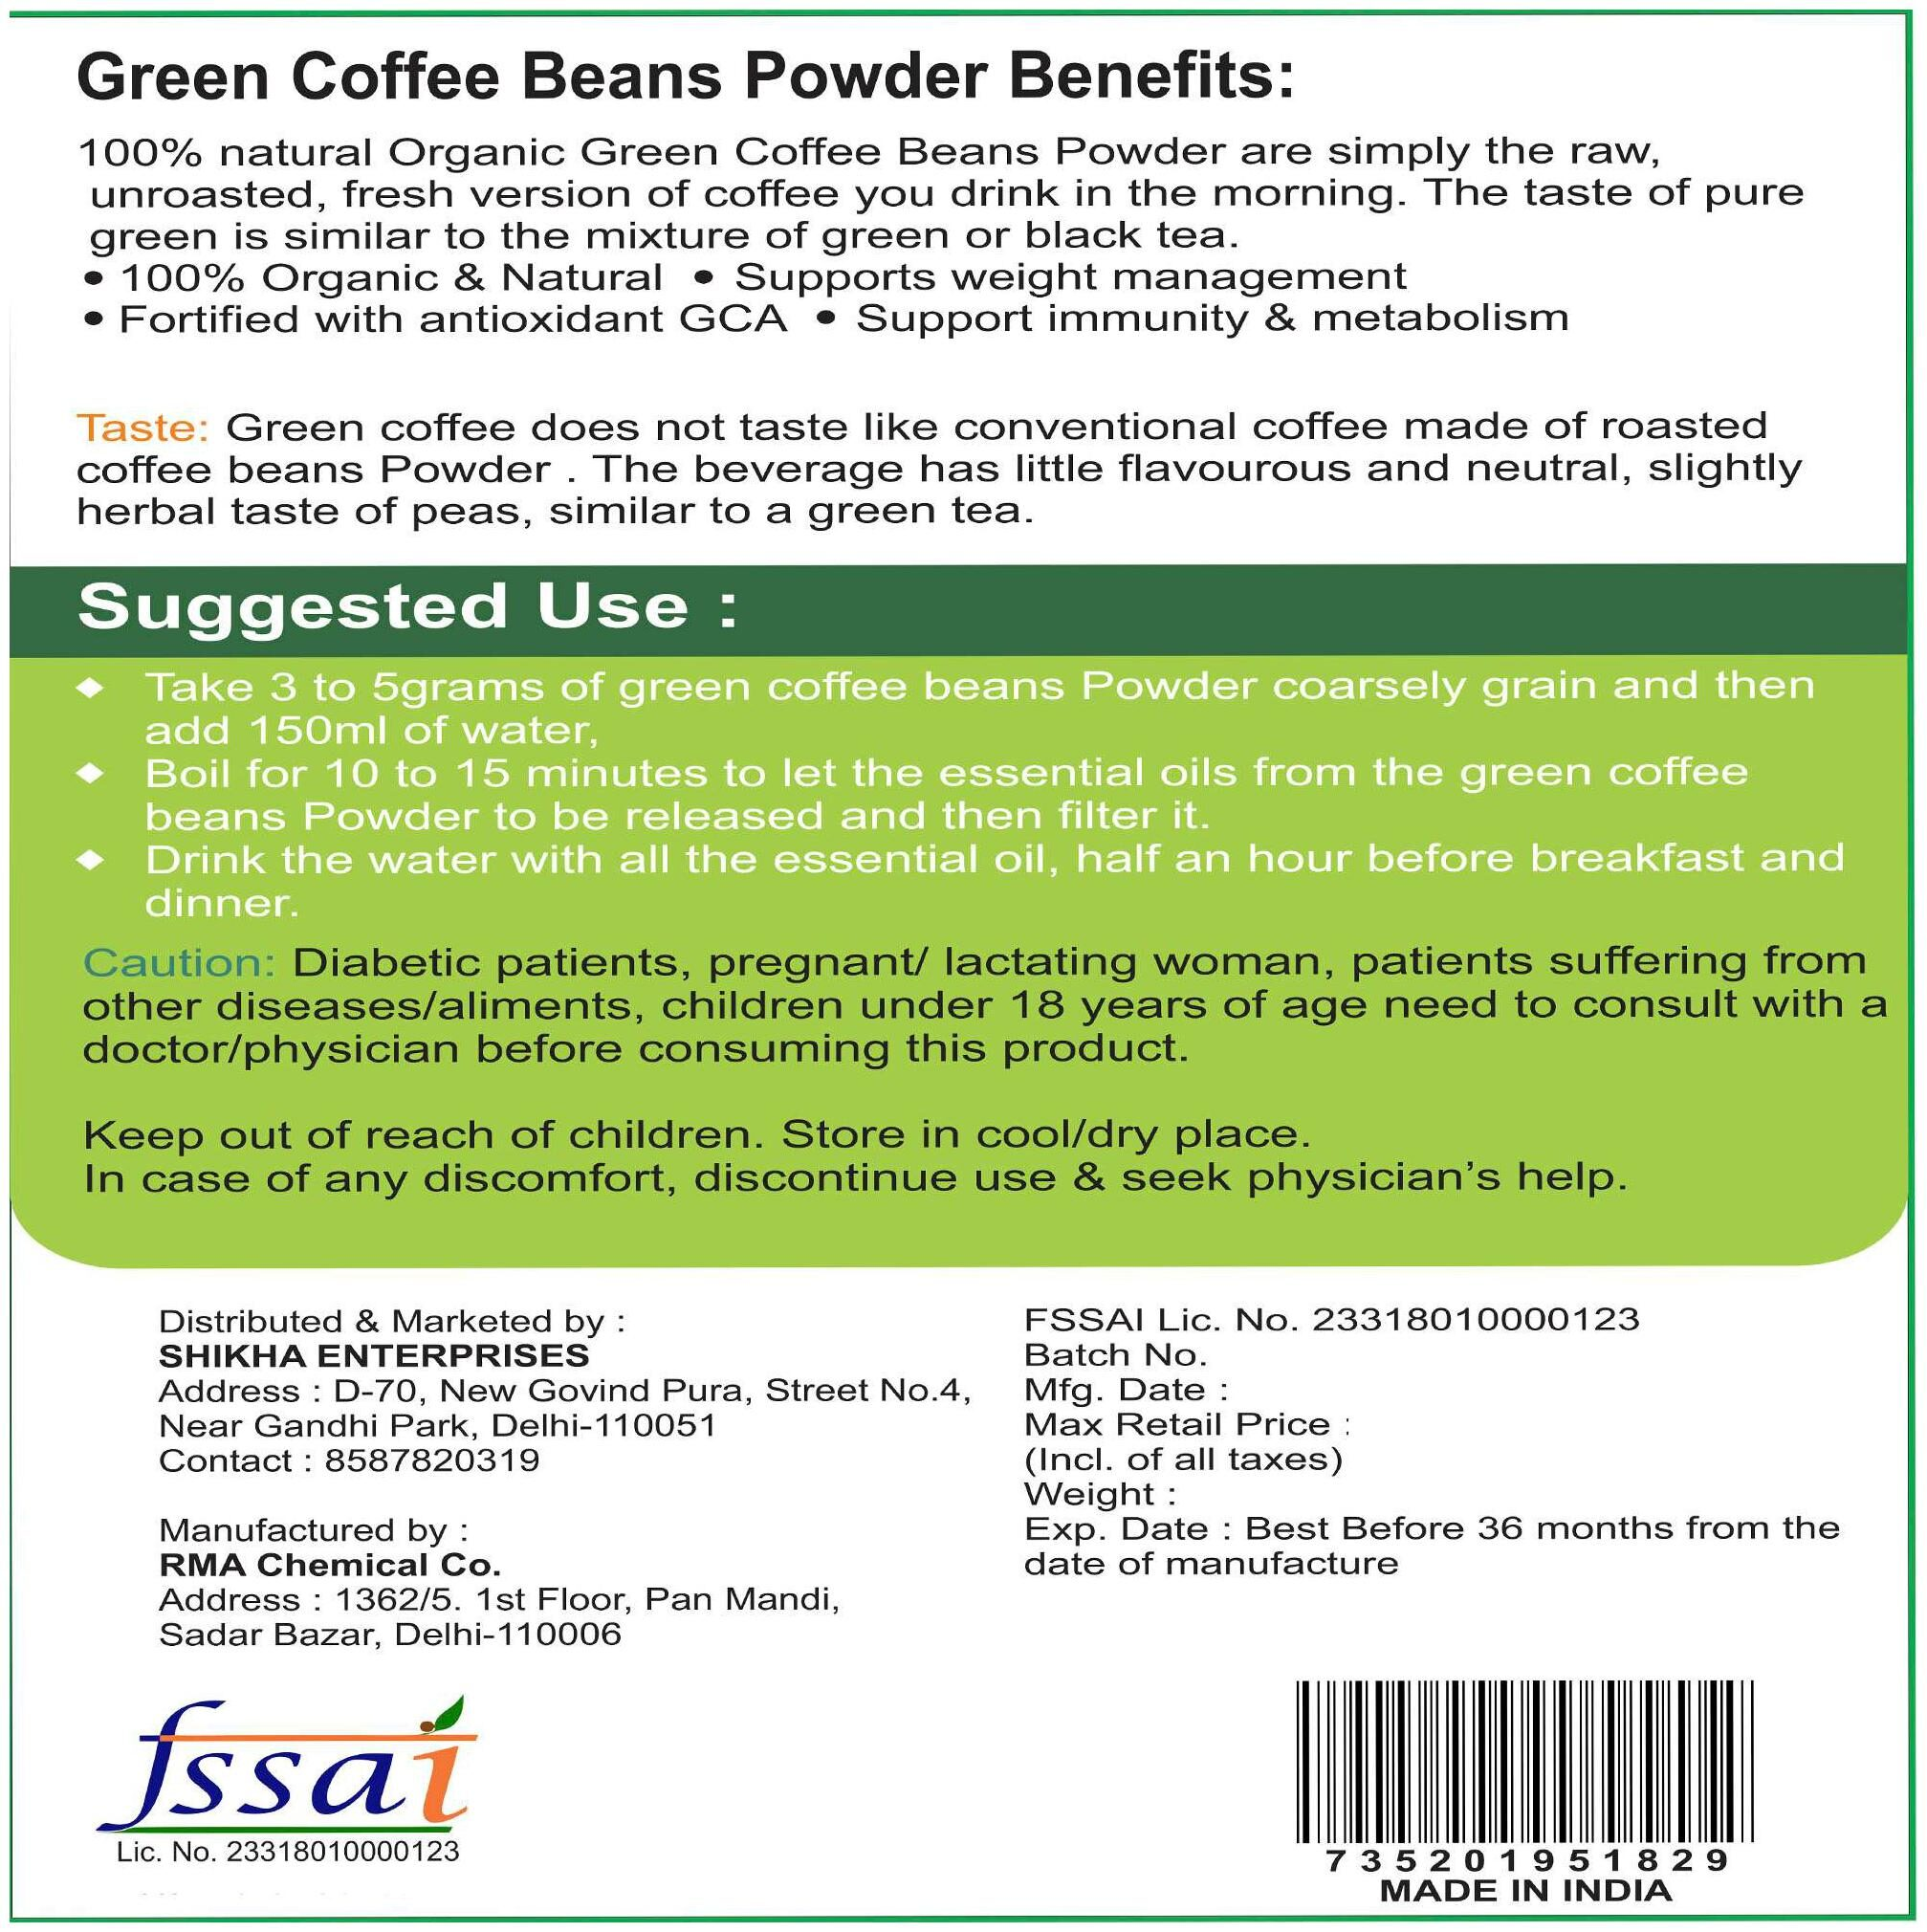fssai: (85, 1694, 473, 1831)
